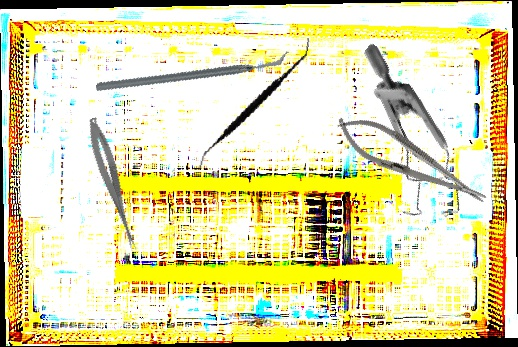Chopper: (94, 2, 290, 141)
Micro Scissor: (81, 115, 146, 254)
Needle Holder: (327, 103, 495, 220)
Spatula Surgical: (197, 21, 311, 186)
Speculum: (301, 42, 509, 239)
